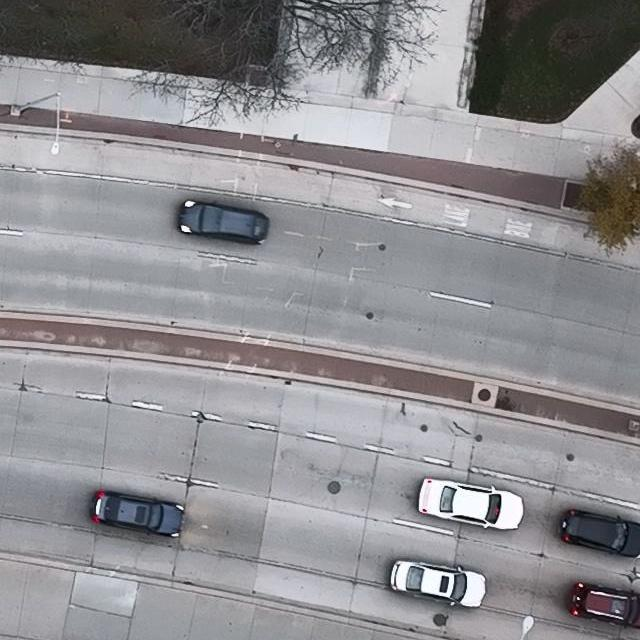car: (417, 477, 525, 530), (89, 490, 185, 538), (388, 561, 486, 608), (178, 199, 269, 244), (561, 509, 640, 560), (567, 581, 640, 629)
